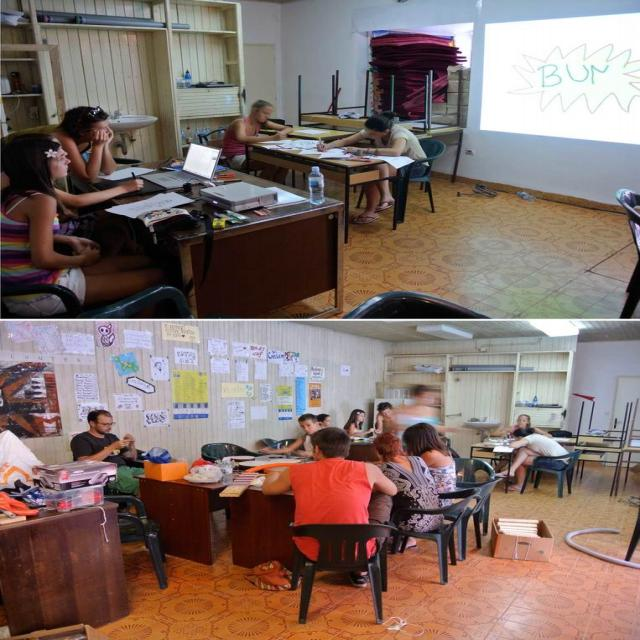chair: (290, 524, 392, 626), (388, 492, 476, 585), (106, 498, 168, 590), (394, 138, 446, 218), (615, 187, 640, 317), (522, 449, 580, 498)
desk: (47, 150, 348, 324)
laptop: (144, 143, 222, 184)
person: (0, 134, 181, 309), (252, 427, 398, 577), (320, 113, 428, 227), (370, 427, 470, 545), (48, 106, 152, 195), (69, 410, 146, 508), (219, 99, 291, 177), (499, 417, 568, 494), (380, 385, 443, 434), (256, 413, 320, 458), (342, 409, 369, 436)
